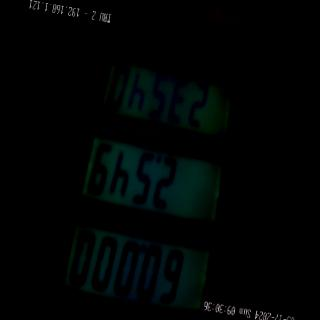screen: (55, 22, 250, 320)
